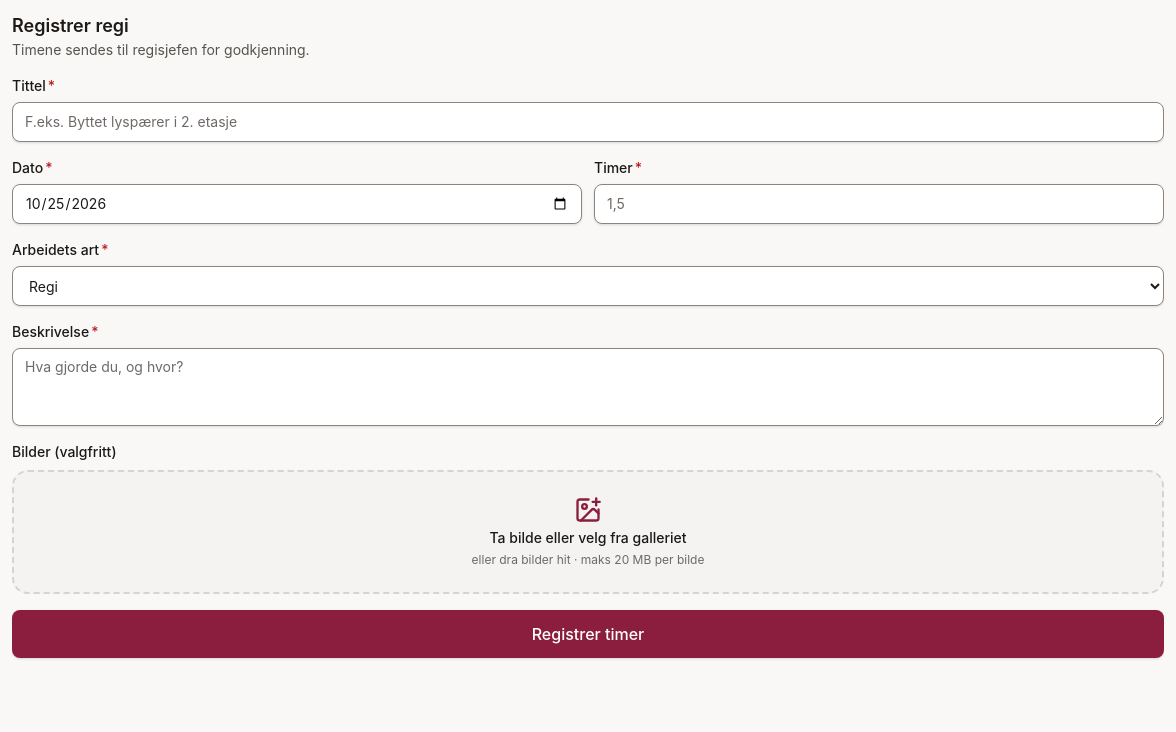
WorkLogForm › shows the error and keeps the input when saving fails
Type "Rydding" into the field labelled "Tittel*" at point(588, 122), box [12, 102, 1164, 142]
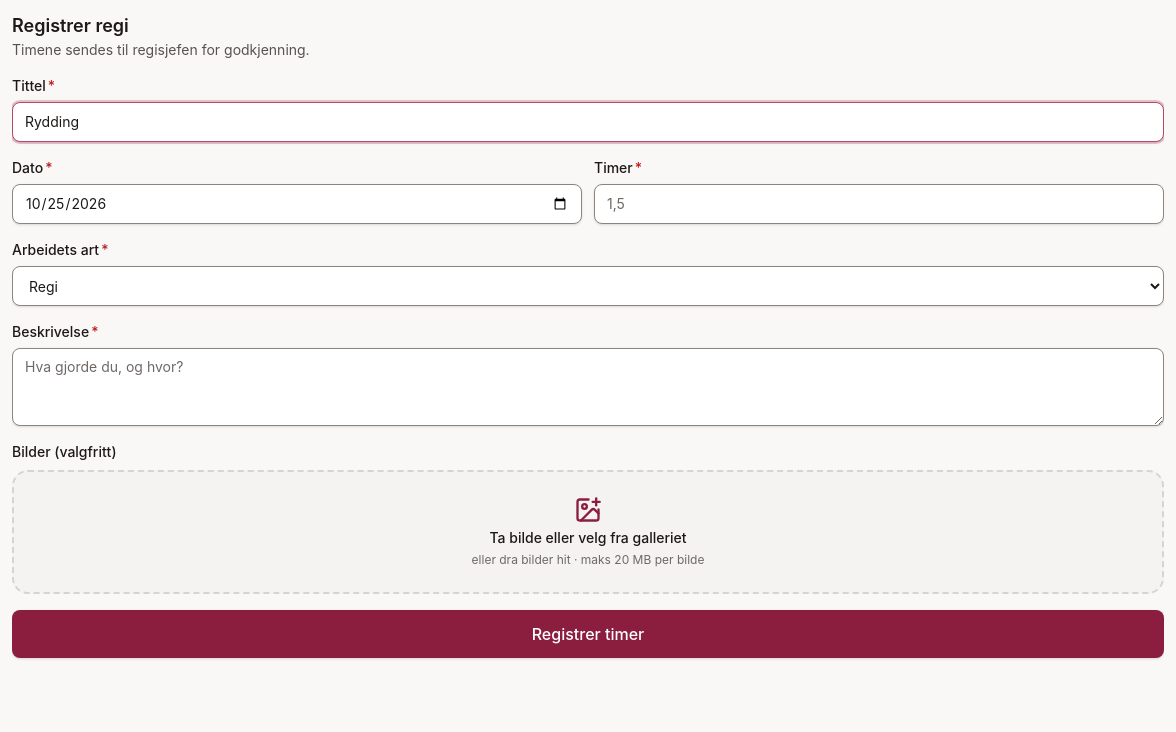
Type "2" into the number field labelled "Timer*" at point(879, 204), box [594, 184, 1164, 224]
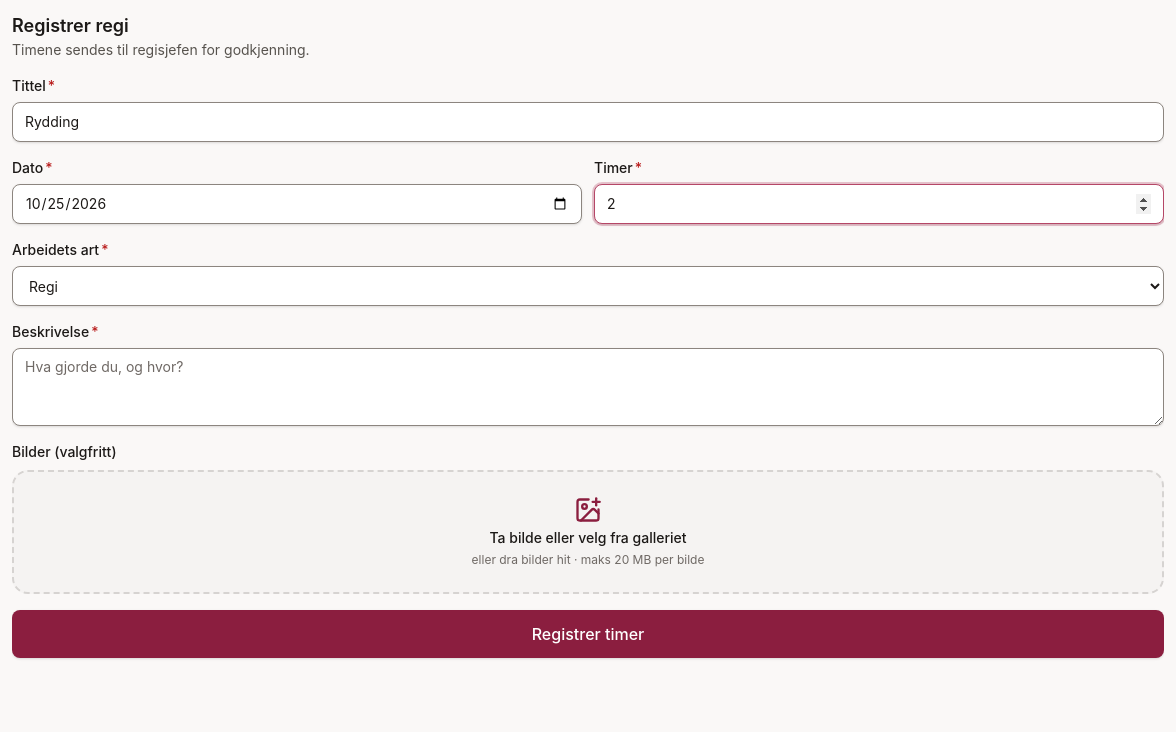
Type "Kjelleren" into the text box labelled "Beskrivelse*" at point(588, 387), box [12, 348, 1164, 426]
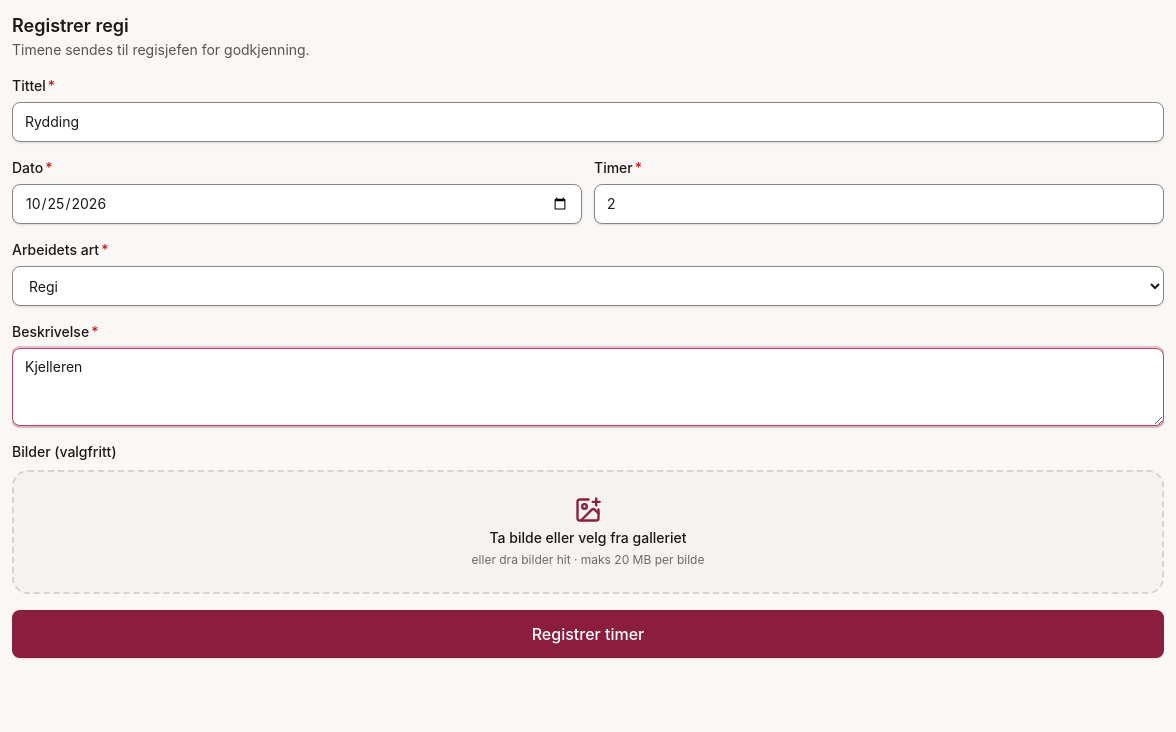
Click the button "Registrer timer" at point(588, 634), box [12, 610, 1164, 658]
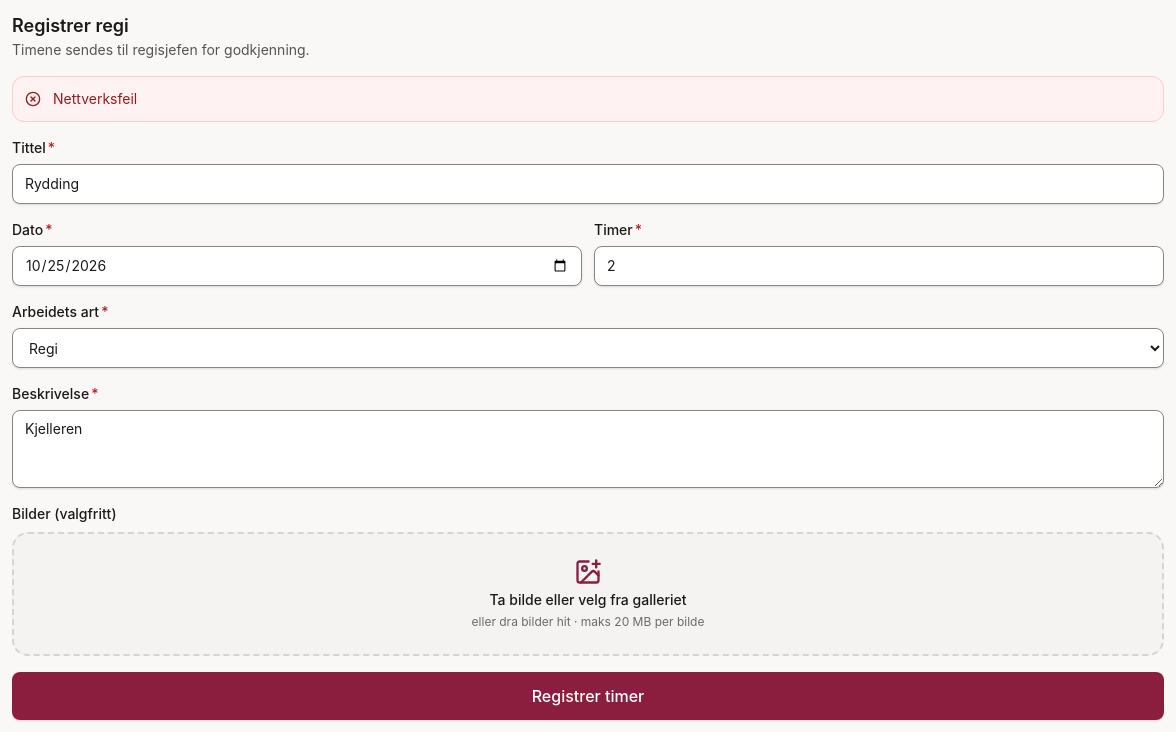
Expected: the text "Nettverksfeil" is shown, [53, 90, 137, 107]
